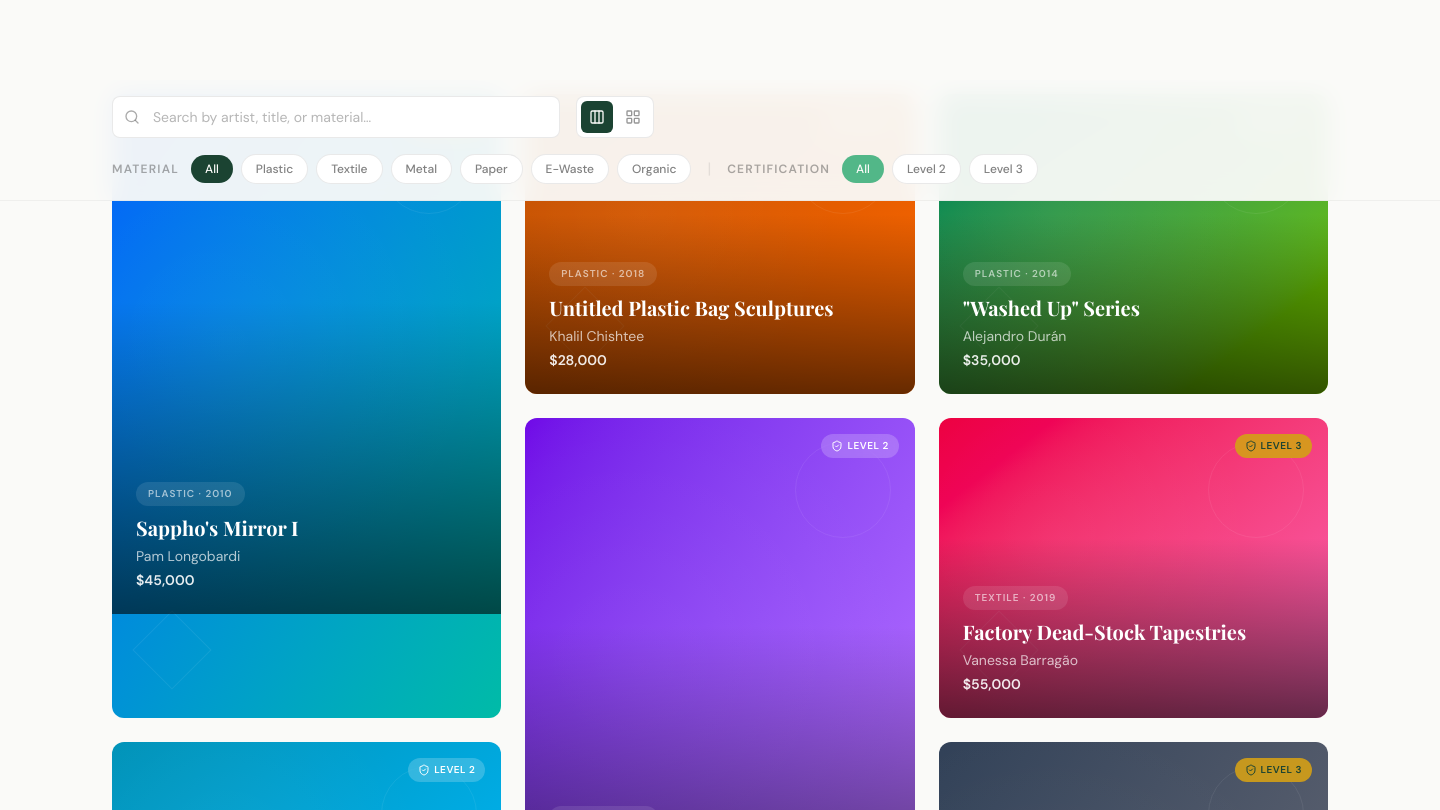
Test: Artwork Detail Modal › shows CTA buttons in modal
(page scrolled)
Click the button with aria-label "View Sappho's Mirror I by Pam Longobardi" at (307, 406), box [112,94,501,718]
(page scrolled)
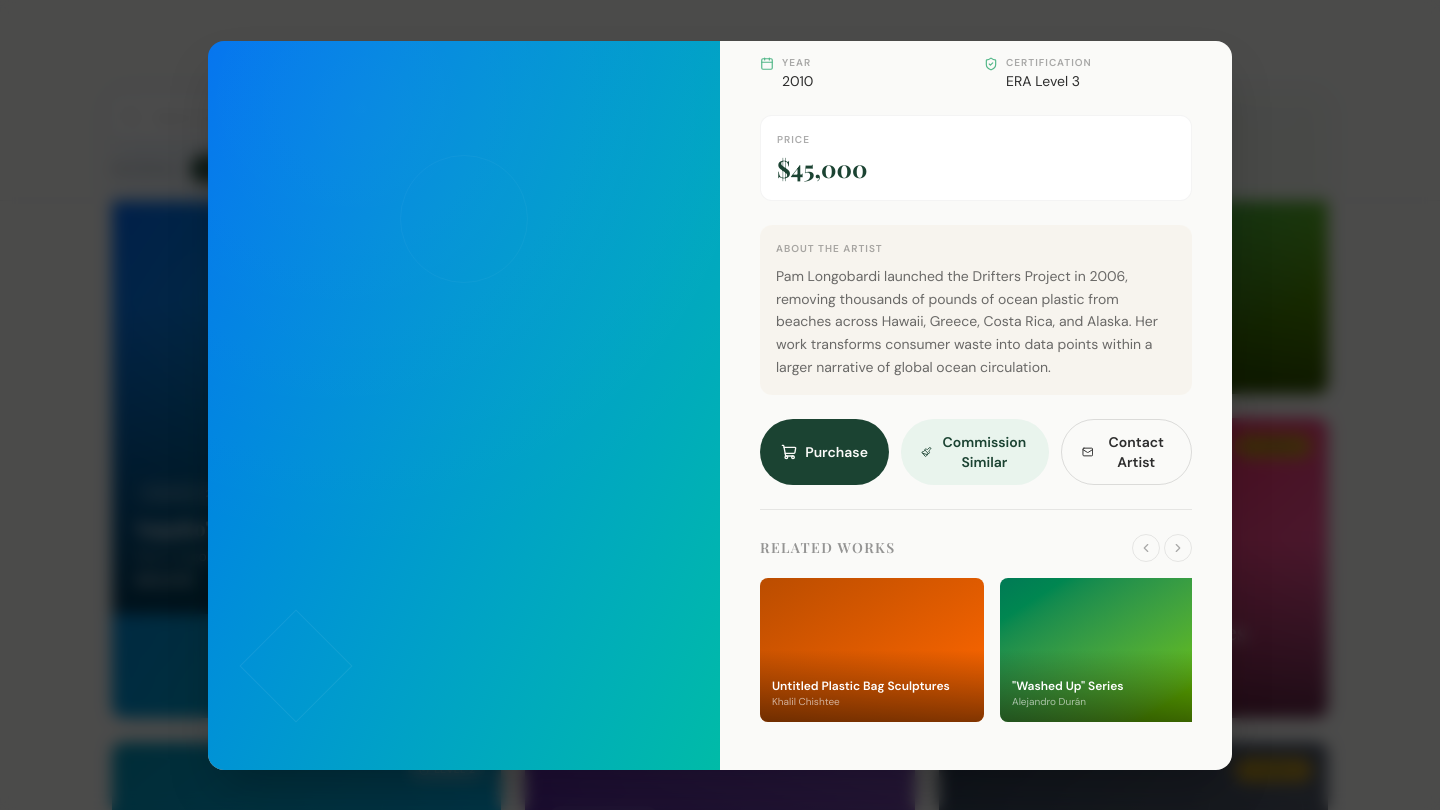
Now the dialog is shown
Now the button "Purchase" is shown, box [760,418,889,484]
Now the button "Commission Similar" is shown, box [901,418,1049,484]
